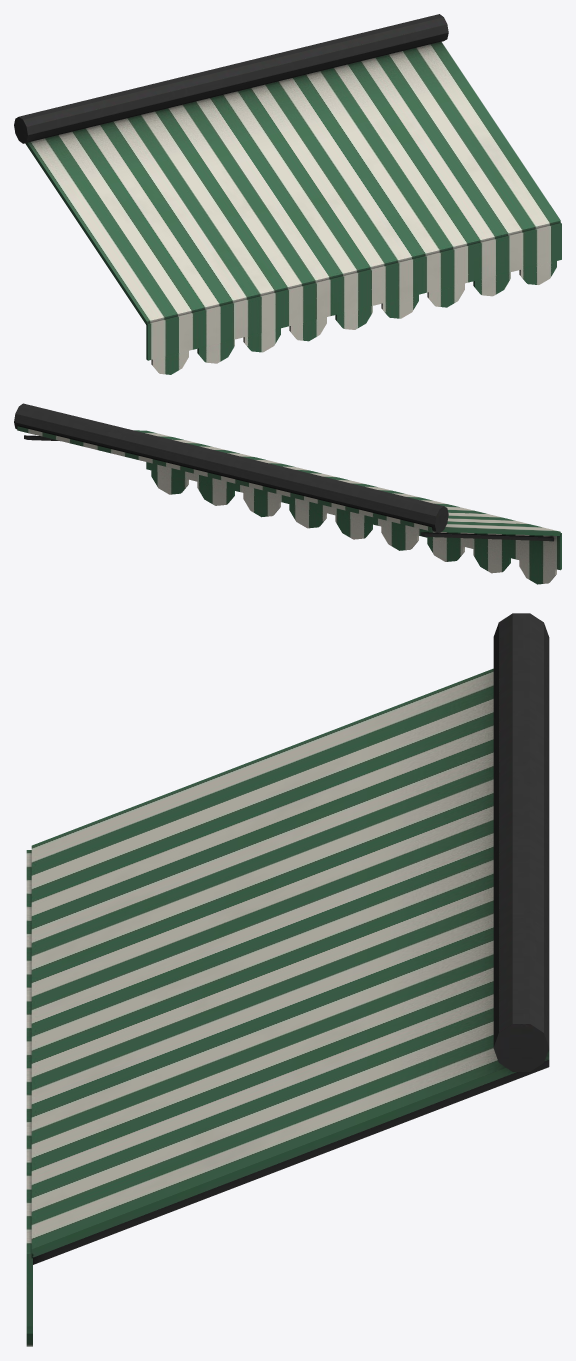
Rendered from awning_24_green.glb.
3 views of the same model, one above another, from view 1: azimuth 30°, elevation 25°; view 2: azimuth 150°, elevation 25°; view 3: azimuth 270°, elevation 25° (orthographic). The views are drawn at different scales.
Visible parts, largest first — view 1: awning_24_green; view 2: awning_24_green; view 3: awning_24_green.
Boxes of the visible parts, left/top/right/bottom form: awning_24_green: left=14, top=14, right=561, bottom=374; awning_24_green: left=14, top=403, right=561, bottom=584; awning_24_green: left=26, top=613, right=549, bottom=1346.
Size of the model in its own units: 2.44 by 0.9566 by 1.31.
Materials: 1 (1 with a texture image).
